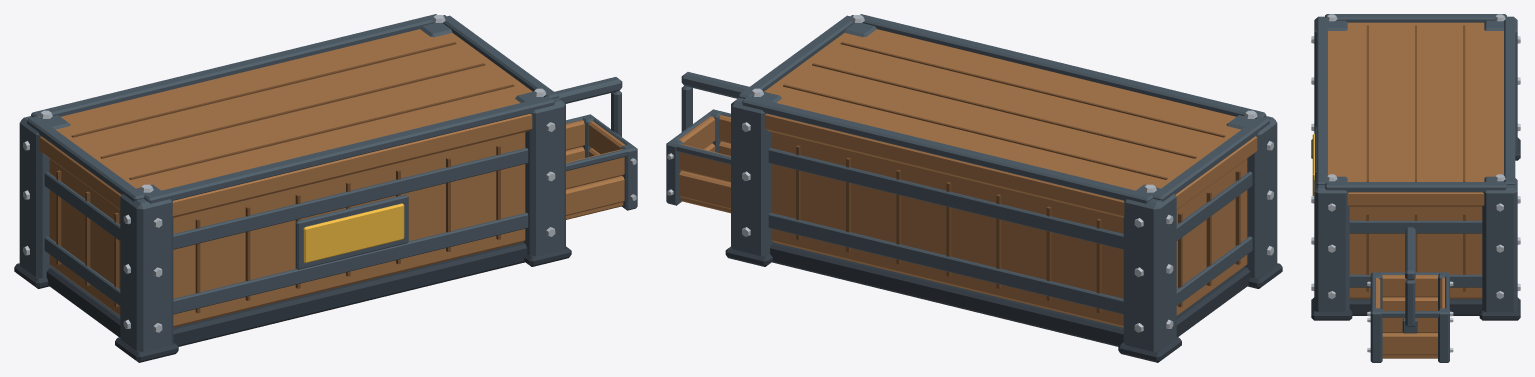
Rendered from Station_Table.fbx.
3 views of the same model, side by side, from view 1: azimuth 30°, elevation 25°; view 2: azimuth 150°, elevation 25°; view 3: azimuth 270°, elevation 25° (orthographic). The views are drawn at different scales.
Parts seen in each view (by area): view 1: Wood, Frame, FrameDark, WoodDark, Accent_Metal, SteelLight; view 2: Wood, Frame, FrameDark, WoodDark, SteelLight; view 3: Wood, Frame, FrameDark, WoodDark, SteelLight, Accent_Metal.
Part boxes in pixels (bbox=[...]): Wood: bbox=[39, 29, 624, 327]; Frame: bbox=[19, 14, 637, 351]; FrameDark: bbox=[14, 242, 571, 362]; WoodDark: bbox=[56, 42, 514, 313]; Accent_Metal: bbox=[303, 203, 404, 263]; SteelLight: bbox=[23, 15, 636, 332]; Wood: bbox=[678, 29, 1257, 327]; Frame: bbox=[666, 14, 1277, 351]; FrameDark: bbox=[725, 242, 1282, 362]; WoodDark: bbox=[783, 42, 1240, 313]; SteelLight: bbox=[667, 15, 1273, 332]; Wood: bbox=[1328, 22, 1503, 358]; Frame: bbox=[1314, 14, 1517, 362]; FrameDark: bbox=[1311, 137, 1520, 320]; WoodDark: bbox=[1366, 25, 1465, 291]; SteelLight: bbox=[1311, 14, 1520, 352]; Accent_Metal: bbox=[1312, 134, 1314, 195].
Size of the model in its own units: 9.19 by 2.68 by 3.68.
